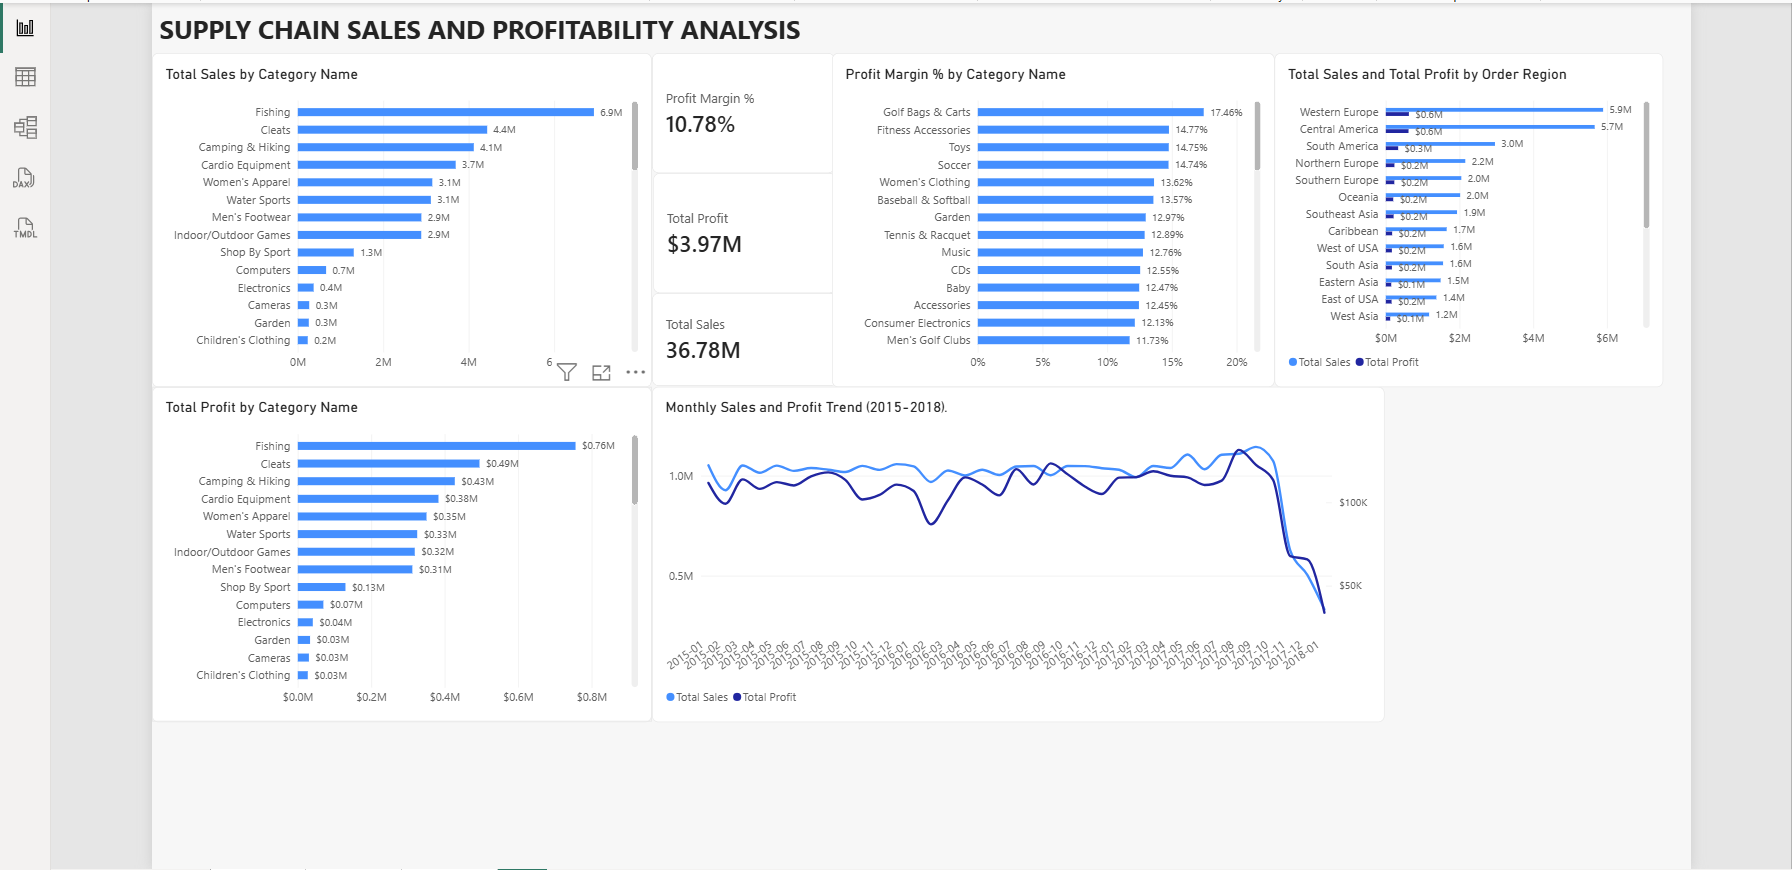

Layout of this report page (visuals, bound fields, positions):
{"tool":"powerbi","page":{"name":"Page 3","canvas":[1920,1080],"ordinal":2},"visuals":[{"type":"textbox","box":[10,11.7,838.3,50],"z":0},{"type":"cardVisual","fields":{"Data":["supply_chain_cleaned (1).Total Sales"]},"box":[623.3,361.7,231.7,116.7],"z":1000},{"type":"cardVisual","fields":{"Data":["supply_chain_cleaned (1).Total Profit"]},"box":[625,211.7,228.3,150],"z":2000},{"type":"cardVisual","fields":{"Data":["supply_chain_cleaned (1).Profit Margin %"]},"box":[623.3,61.7,228.3,150],"z":3000},{"type":"clusteredBarChart","fields":{"Category":["supply_chain_cleaned (1).Category Name"],"Y":["supply_chain_cleaned (1).Total Sales"]},"box":[0,61.7,623.3,416.7],"z":4000},{"type":"clusteredBarChart","fields":{"Category":["supply_chain_cleaned (1).Category Name"],"Y":["supply_chain_cleaned (1).Total Profit"]},"box":[0,478.3,623.3,418.3],"z":5000},{"type":"clusteredBarChart","fields":{"Category":["supply_chain_cleaned (1).Category Name"],"Y":["supply_chain_cleaned (1).Profit Margin %"]},"box":[848.3,61.7,551.7,416.7],"z":6000},{"type":"lineChart","title":"Monthly Sales and Profit Trend (2015-2018).","fields":{"Category":["supply_chain_cleaned (1).OrderYearMonth"],"Y":["supply_chain_cleaned (1).Total Sales"],"Y2":["supply_chain_cleaned (1).Total Profit"]},"box":[623.3,478.3,913.3,418.3],"z":7000},{"type":"clusteredBarChart","fields":{"Category":["supply_chain_cleaned (1).Order Region"],"Y":["supply_chain_cleaned (1).Total Sales","supply_chain_cleaned (1).Total Profit"]},"box":[1400,61.7,485,416.7],"z":7001}]}

Visuals, with their boxes on the page's 1920x1080 design canvas (x1, y1, x2, y2). These are canvas units, not pixel positions in the 1792x870 screenshot, which may show the page scaled, cropped or inside an application window:
textbox: [x1=10, y1=12, x2=848, y2=62]
cardVisual - supply_chain_cleaned (1).Total Sales: [x1=623, y1=362, x2=855, y2=478]
cardVisual - supply_chain_cleaned (1).Total Profit: [x1=625, y1=212, x2=853, y2=362]
cardVisual - supply_chain_cleaned (1).Profit Margin %: [x1=623, y1=62, x2=852, y2=212]
clusteredBarChart - supply_chain_cleaned (1).Category Name x supply_chain_cleaned (1).Total Sales: [x1=0, y1=62, x2=623, y2=478]
clusteredBarChart - supply_chain_cleaned (1).Category Name x supply_chain_cleaned (1).Total Profit: [x1=0, y1=478, x2=623, y2=897]
clusteredBarChart - supply_chain_cleaned (1).Category Name x supply_chain_cleaned (1).Profit Margin %: [x1=848, y1=62, x2=1400, y2=478]
"Monthly Sales and Profit Trend (2015-2018)." lineChart: [x1=623, y1=478, x2=1537, y2=897]
clusteredBarChart - supply_chain_cleaned (1).Order Region x supply_chain_cleaned (1).Total Sales: [x1=1400, y1=62, x2=1885, y2=478]
